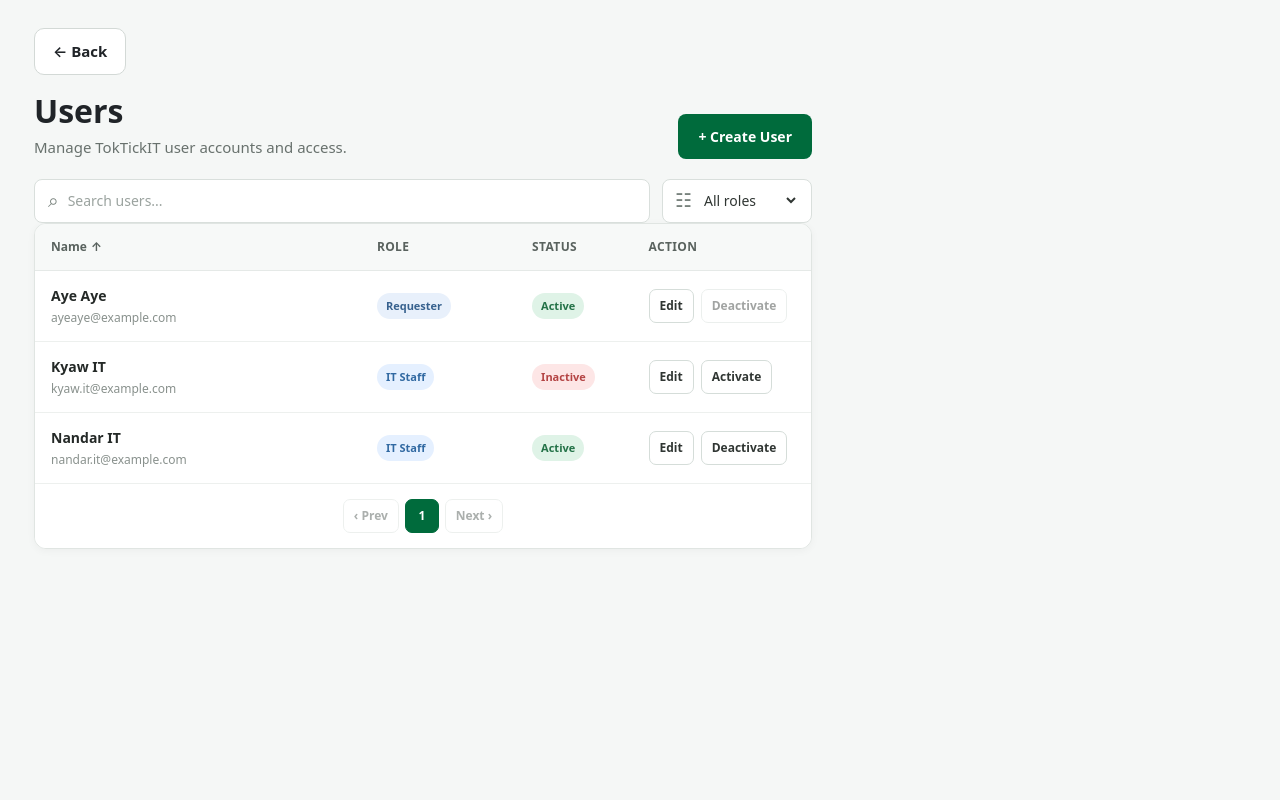
Test: Lab 3 Administrator User Management UI › opens the Create User form
Expected: the text "Aye Aye" is shown, [51, 286, 106, 305]
Click the button "+ Create User". click: x=745, y=136
box: [678, 114, 812, 159]
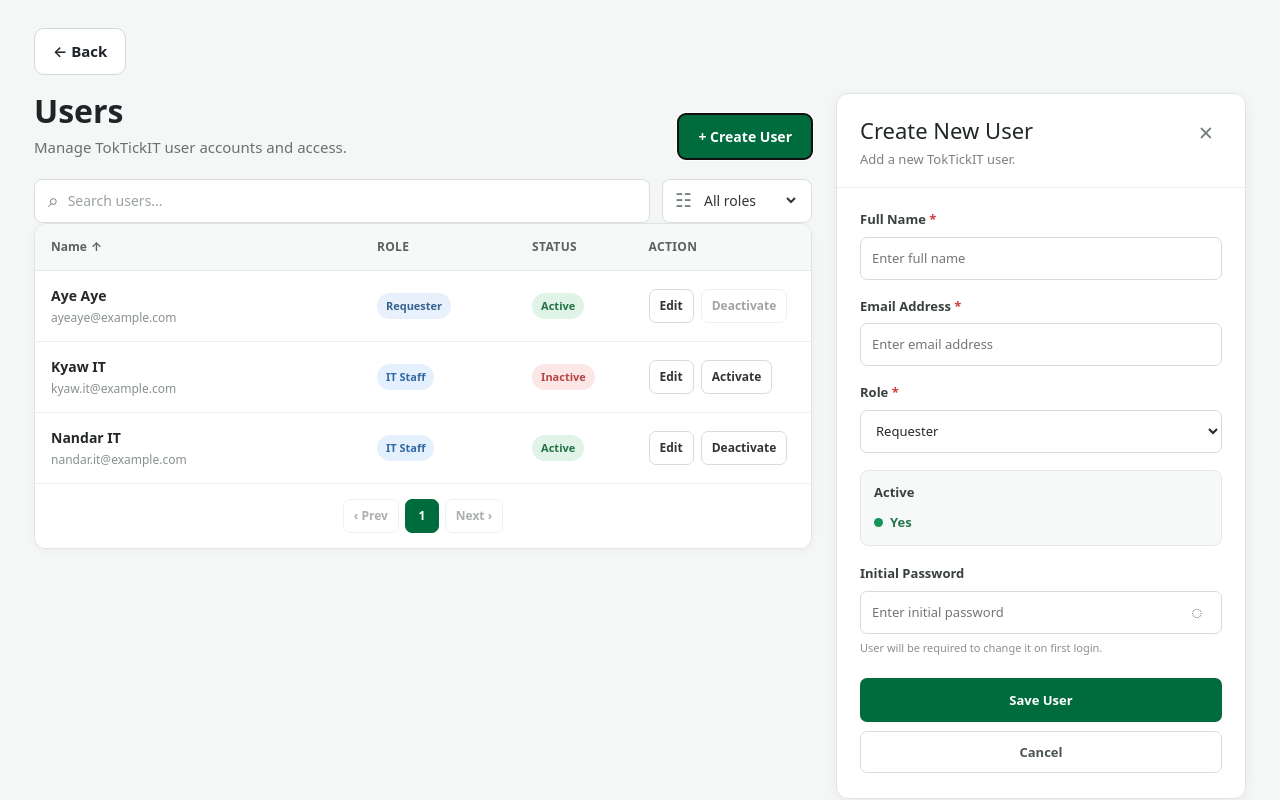
Result: the text "Full Name" is shown at [860, 210, 929, 228]
Result: the field with placeholder "Enter full name" is shown at [860, 237, 1222, 280]
Result: the field with placeholder "Enter email address" is shown at [860, 323, 1222, 366]
